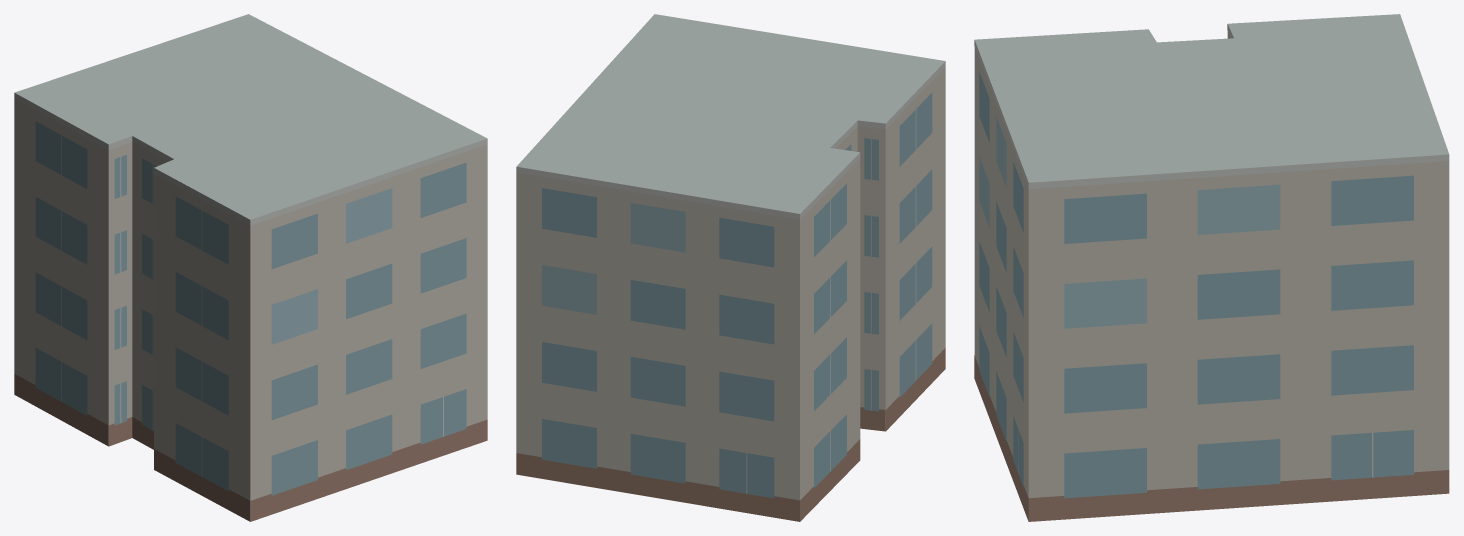
Rendered from survey-upis-32617277.glb.
3 views of the same model, side by side, from view 1: azimuth 30°, elevation 25°; view 2: azimuth 150°, elevation 25°; view 3: azimuth 270°, elevation 25° (orthographic). The views are drawn at different scales.
Parts seen in each view (by area): view 1: survey-upis-32617277.tmp; view 2: survey-upis-32617277.tmp; view 3: survey-upis-32617277.tmp.
Part boxes in pixels (box(x1,y1,x2,y2)): survey-upis-32617277.tmp: box(14, 14, 487, 521); survey-upis-32617277.tmp: box(516, 14, 945, 521); survey-upis-32617277.tmp: box(974, 14, 1449, 521).
Bounding box in the file's own units: 13.67 × 12.8 × 16.25.
